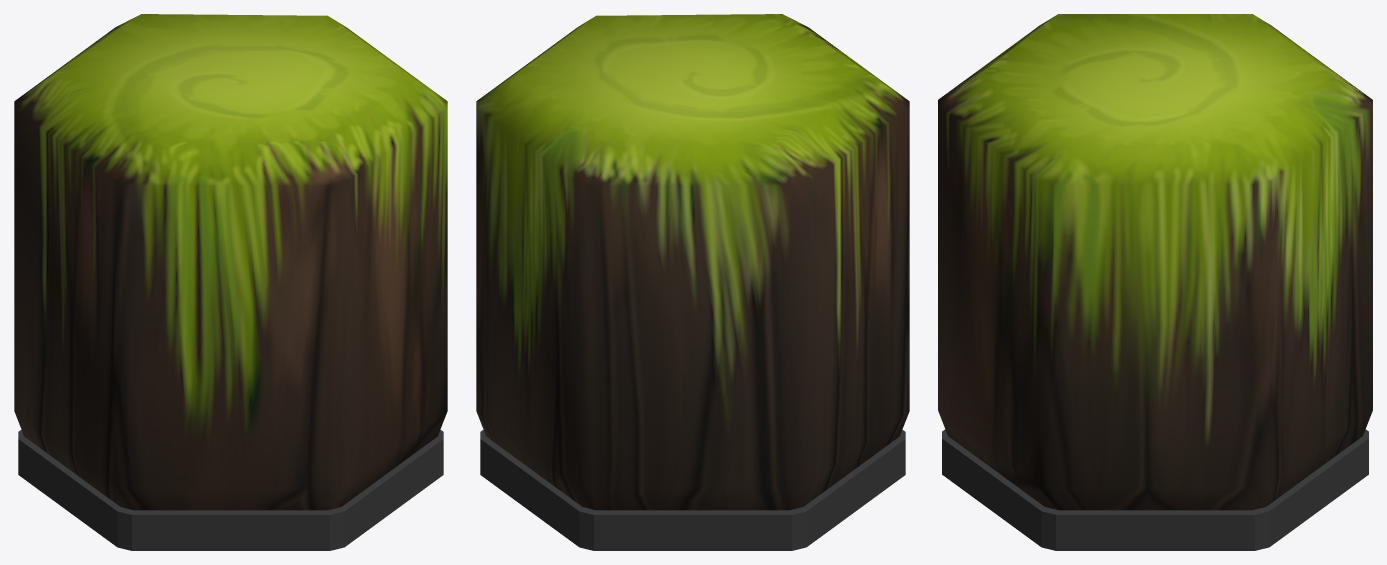
Rendered from tile_art_h2.FBX.
The picture shows the model from 3 angles, left to right: view 1: azimuth 30°, elevation 25°; view 2: azimuth 150°, elevation 25°; view 3: azimuth 270°, elevation 25°; orthographic projection.
Parts seen in each view (by area): view 1: 04, base; view 2: 04, base; view 3: 04, base.
Part boxes in pixels (<box>): 04: <box>14,14,447,510</box>; base: <box>18,430,443,550</box>; 04: <box>476,14,909,510</box>; base: <box>480,430,905,550</box>; 04: <box>938,14,1372,510</box>; base: <box>942,429,1368,550</box>.
Bounding box in the file's own units: 86.9 × 97.93 × 98.11.
1 material, 1 textured.
